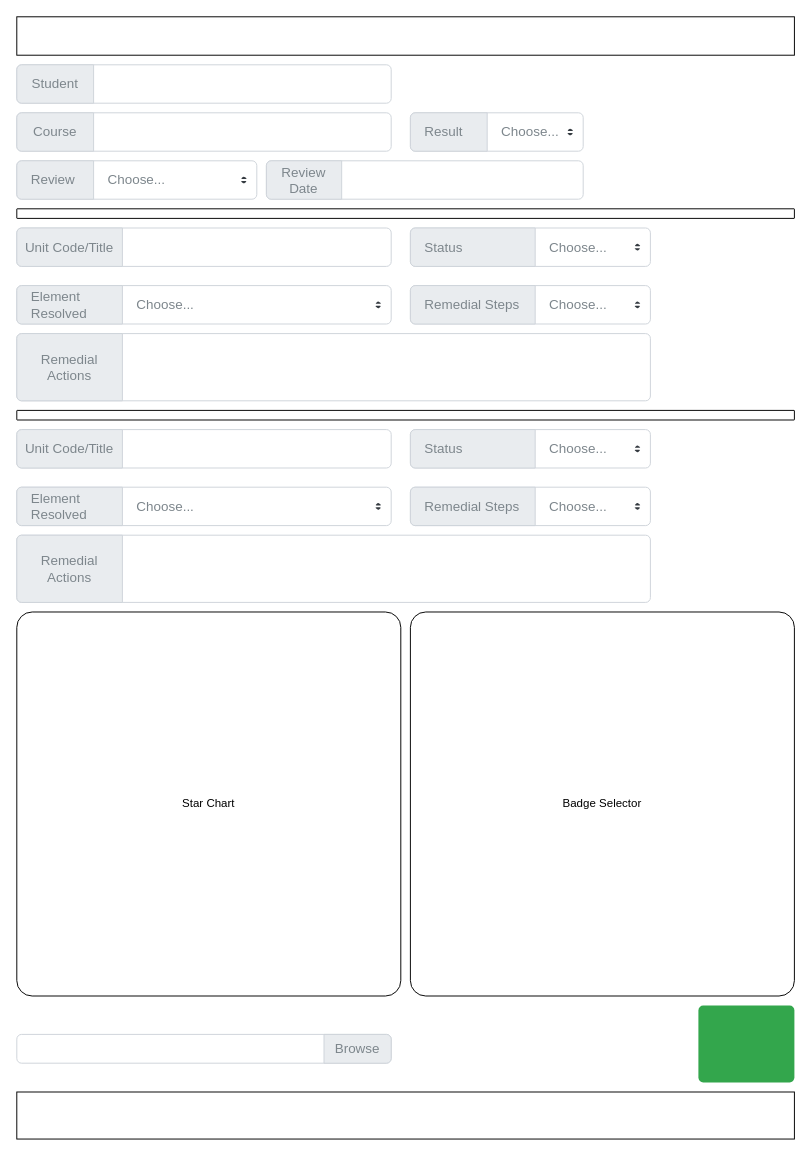
Image size: 811x1156. Some labels were removed from this diagram. The box of each missing label's shape, as (x1, y1, x2, y2) in pixels:
Create: (698, 1005, 794, 1082)
Tutor/Assessor Signature: (16, 1033, 391, 1063)
